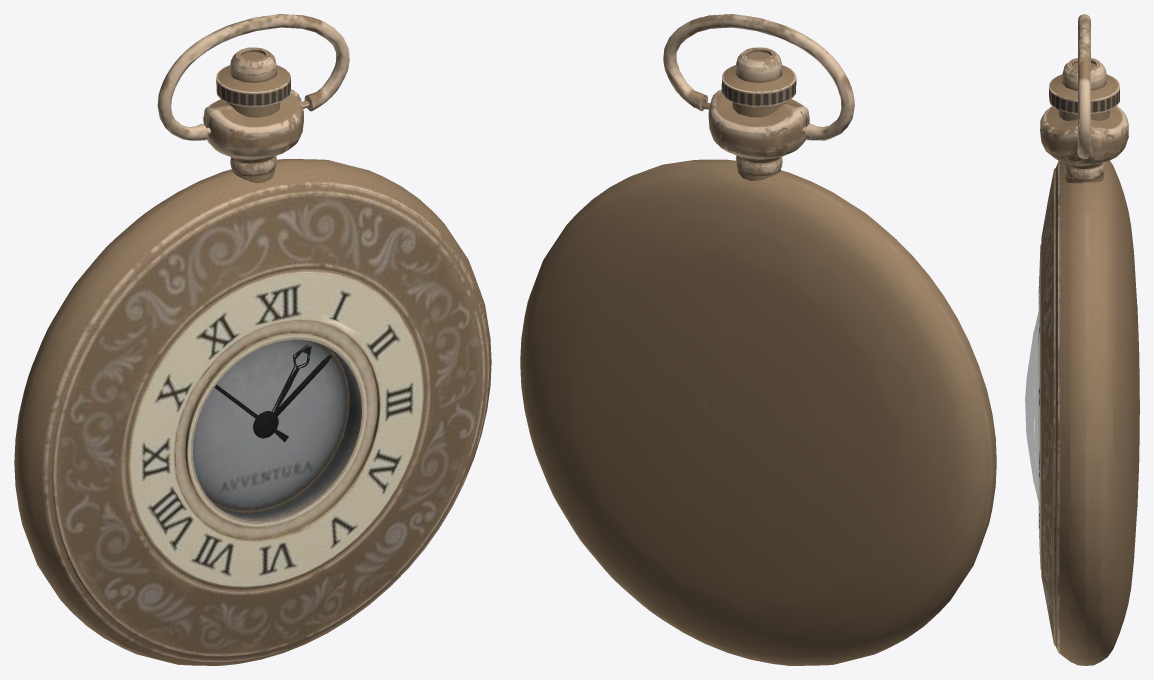
The model's file is vintage_pocket_watch.gltf.
The picture shows the model from 3 angles, left to right: view 1: azimuth 30°, elevation 25°; view 2: azimuth 150°, elevation 25°; view 3: azimuth 270°, elevation 25°; orthographic projection. The views are drawn at different scales.
Parts seen in each view (by area): view 1: vintage_pocket_watch; view 2: vintage_pocket_watch; view 3: vintage_pocket_watch.
Part boxes in pixels (x1,y1,x2,y2): vintage_pocket_watch: (14, 14, 491, 665); vintage_pocket_watch: (520, 14, 996, 665); vintage_pocket_watch: (1025, 14, 1139, 665).
Size of the model in its own units: 0.0613 by 0.0799 by 0.0136.
Materials: 3 (1 with a texture image).
